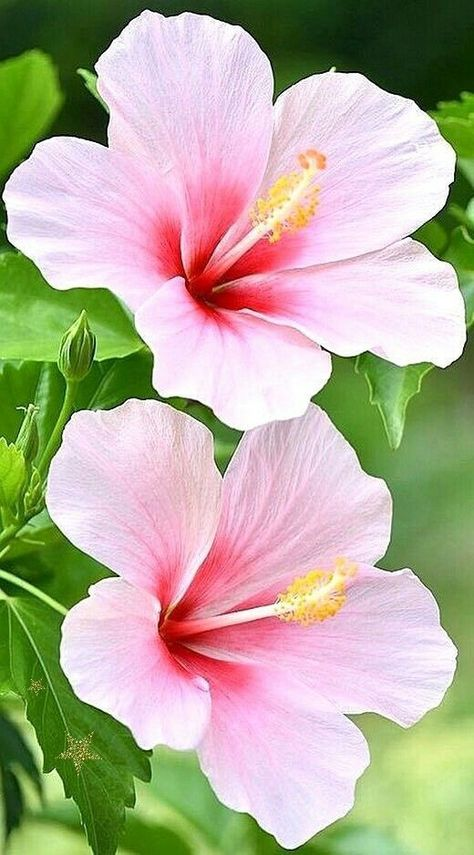Hibiscus: (49, 386, 458, 835), (3, 11, 473, 392), (53, 294, 105, 413)
